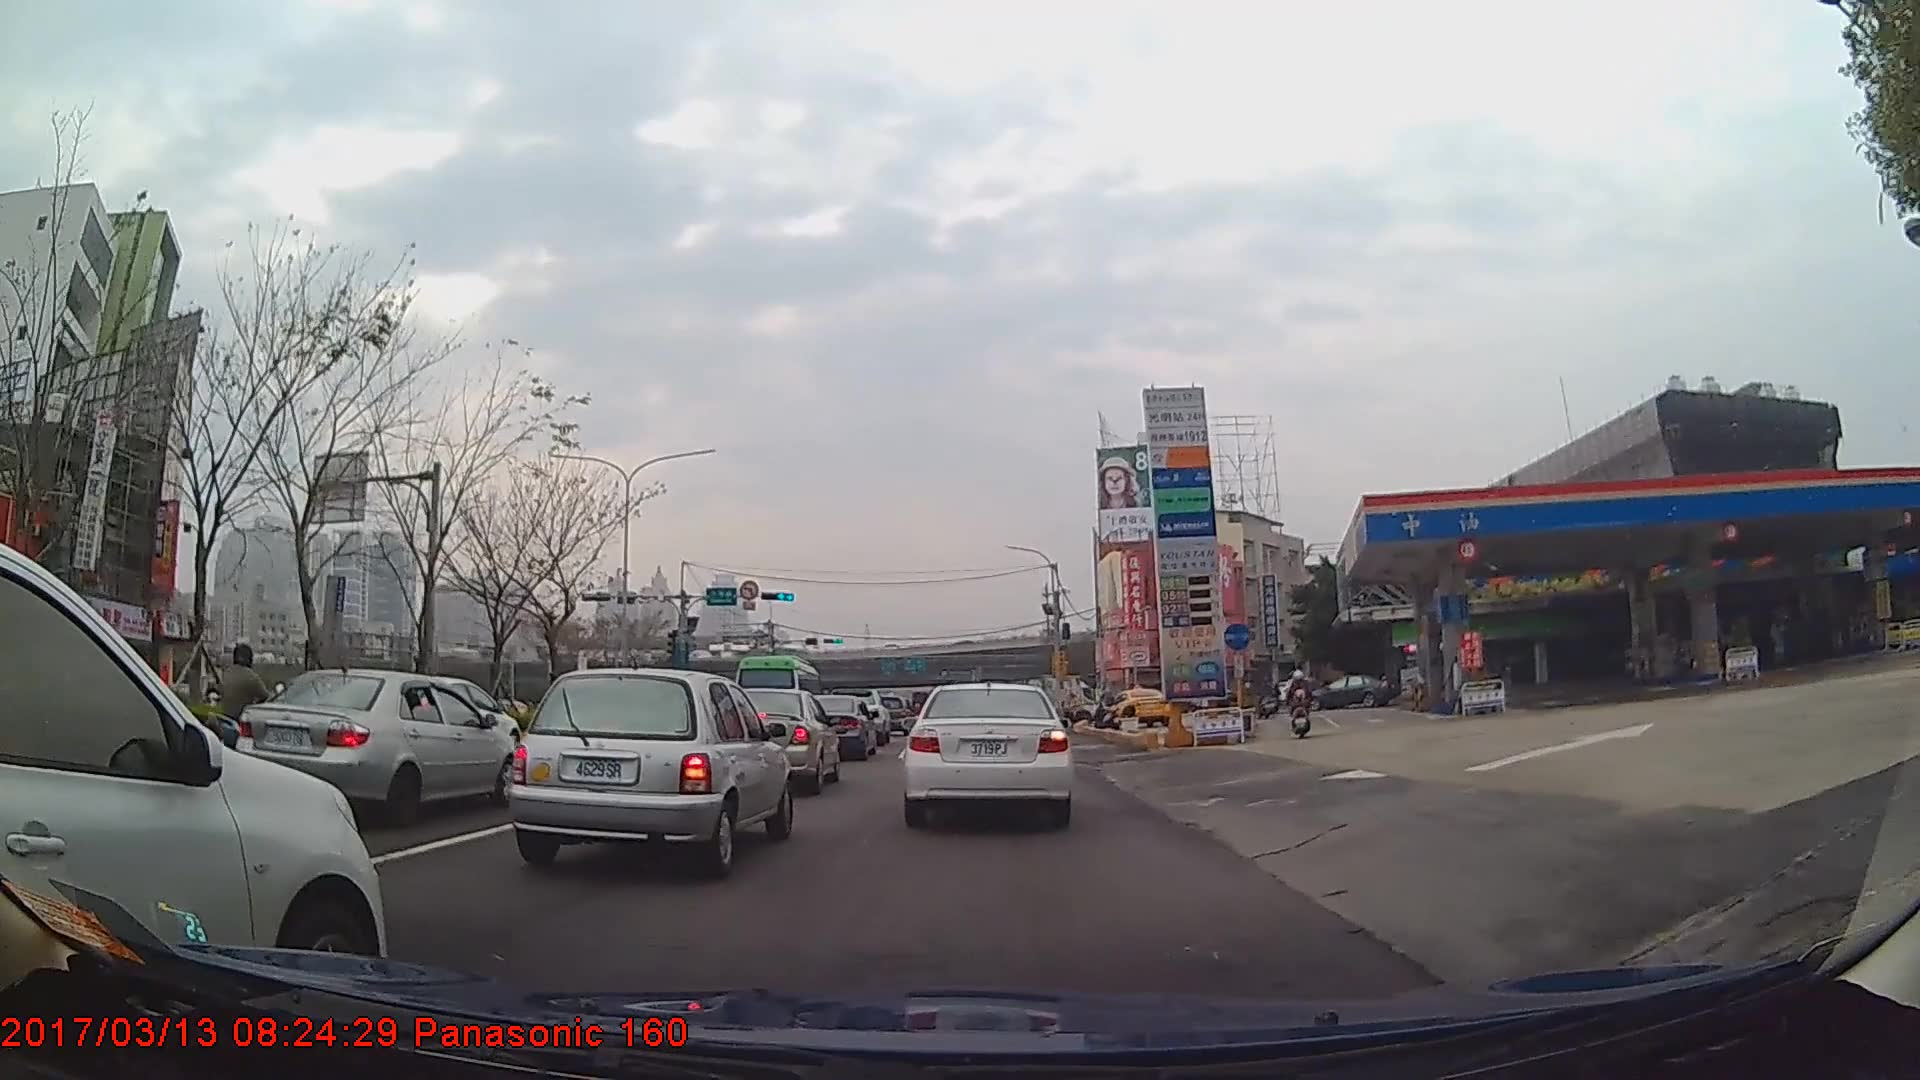rider: (208, 640, 282, 778), (1287, 670, 1311, 736)
vehicle: (0, 538, 384, 1008), (505, 665, 793, 878), (234, 669, 518, 820), (903, 679, 1073, 828), (709, 685, 840, 798), (730, 652, 824, 727), (796, 692, 877, 758), (1009, 681, 1097, 732), (1300, 670, 1397, 708), (1111, 685, 1169, 725)
